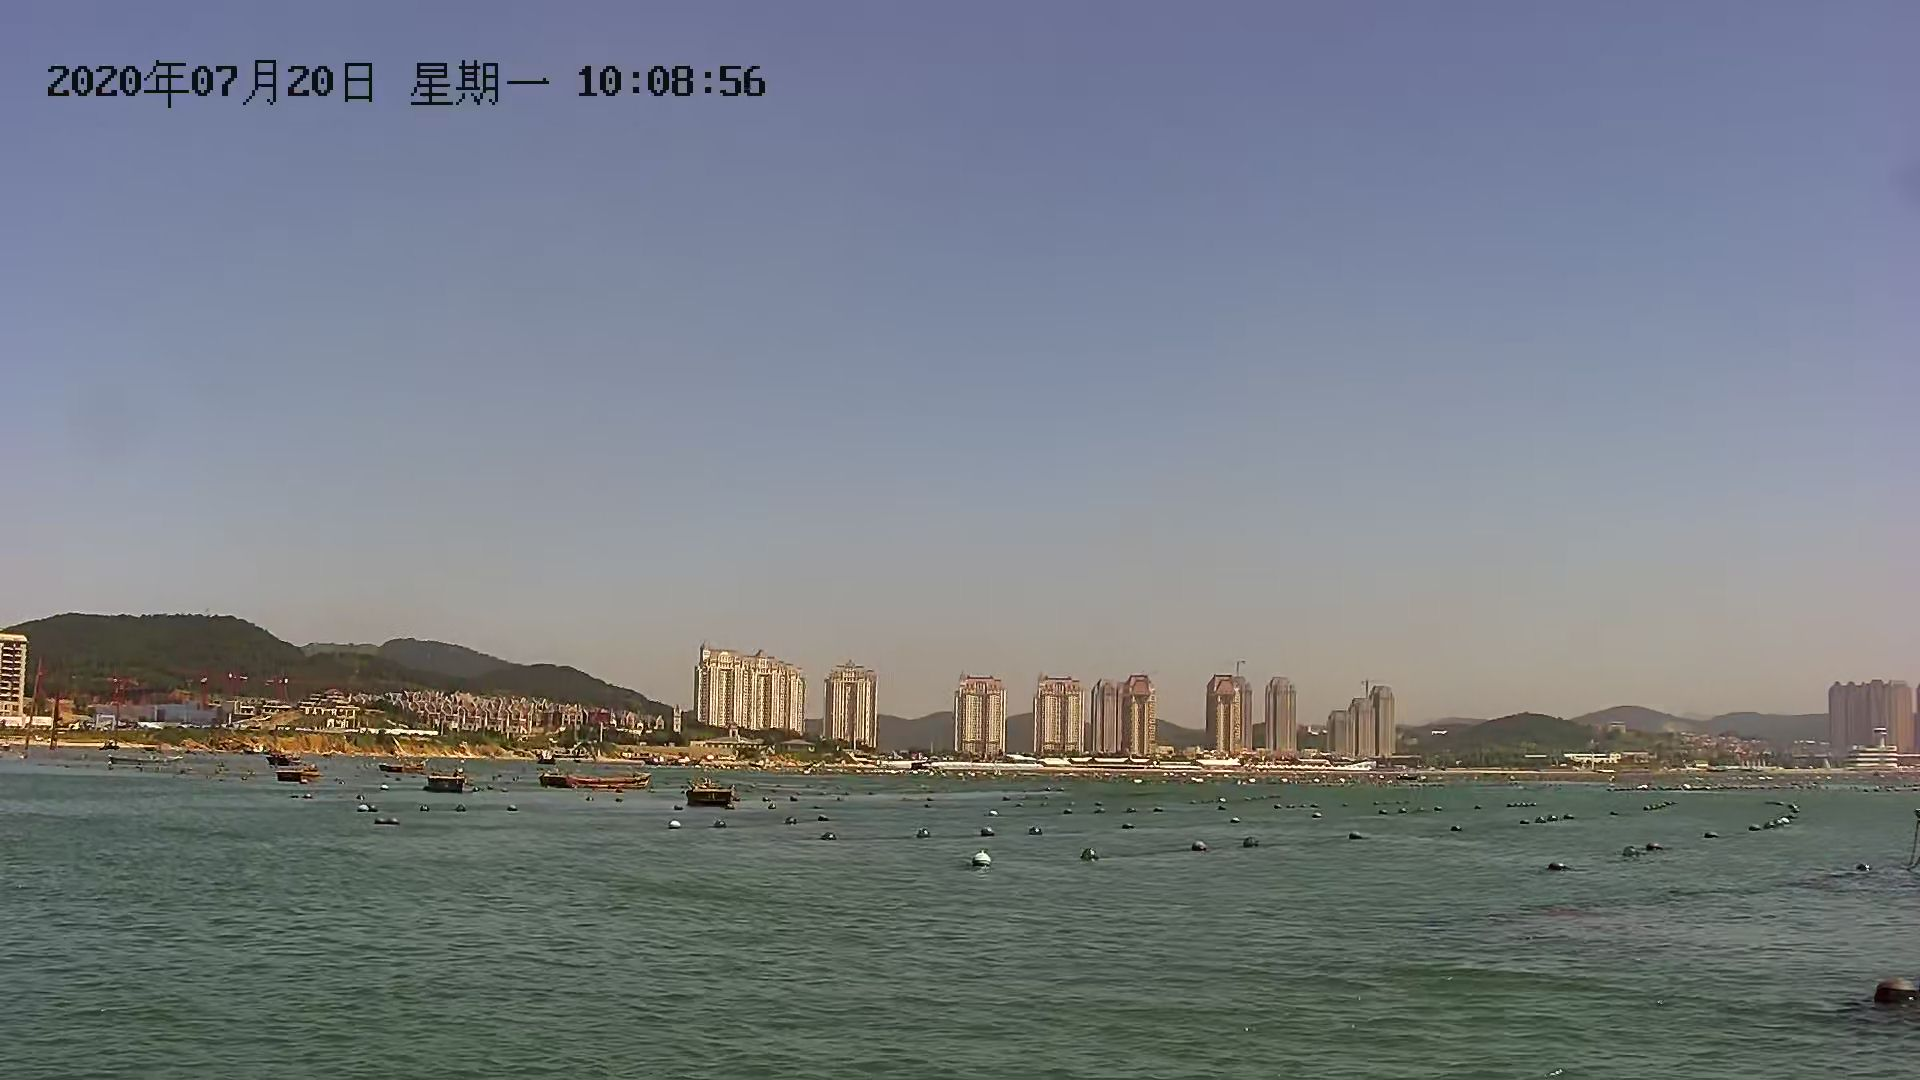ball: (1873, 975, 1919, 1017), (971, 847, 998, 877), (1083, 843, 1109, 868)
boat: (545, 767, 651, 794), (683, 774, 737, 815), (269, 764, 328, 789), (380, 757, 443, 778), (426, 767, 468, 794)
